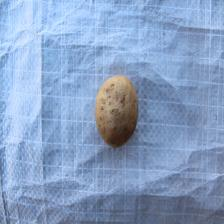Diseased-fungal potato: (94, 73, 139, 149)
